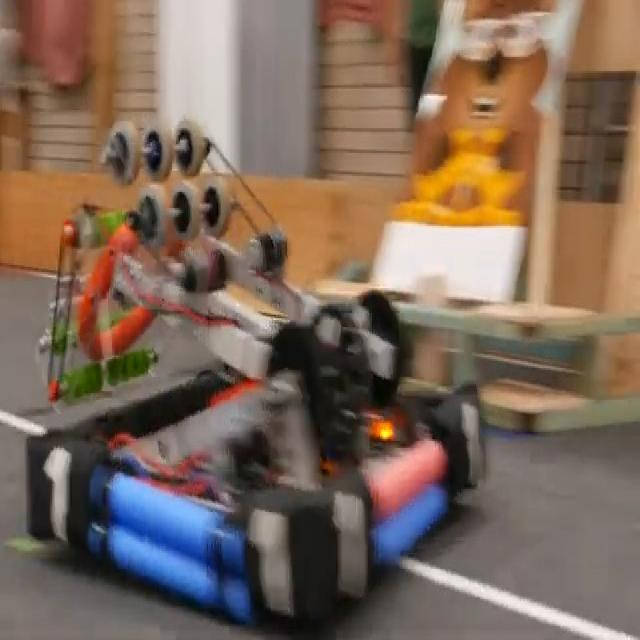note: (77, 202, 160, 353)
